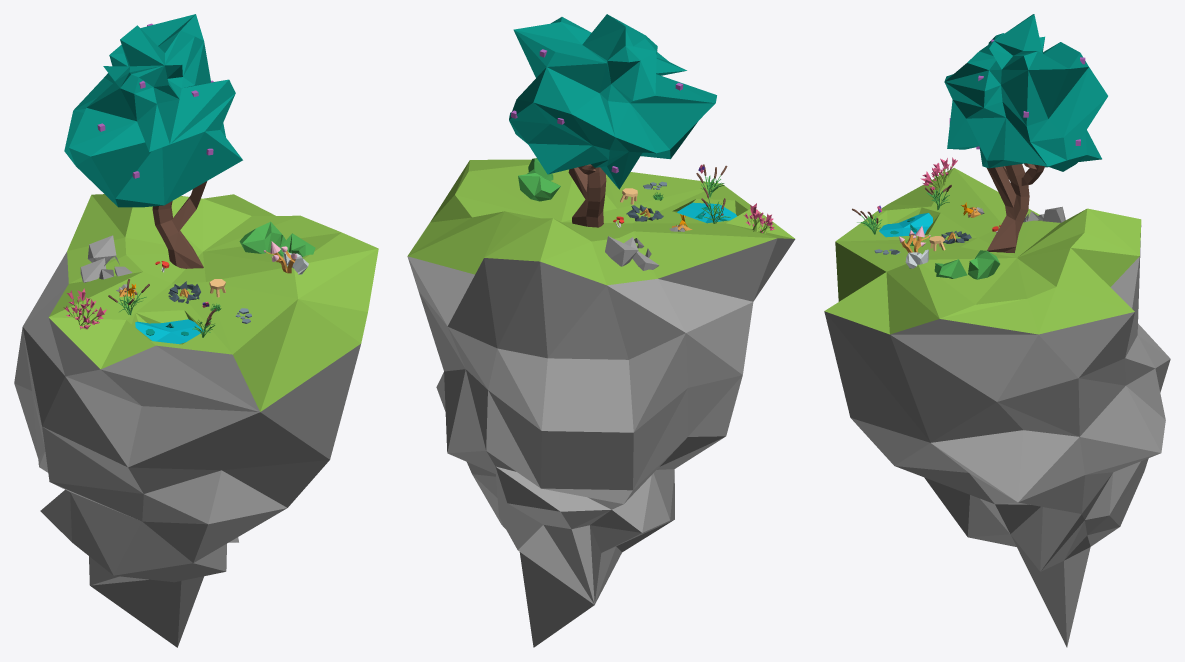
Rendered from island-fox.glb.
The picture shows the model from 3 angles, left to right: view 1: azimuth 30°, elevation 25°; view 2: azimuth 150°, elevation 25°; view 3: azimuth 270°, elevation 25°; orthographic projection. The views are drawn at different scales.
Visible parts, largest first — view 1: group89880989, group66116416, group1427171881, group950227613, group451614104, group1036978087; view 2: group89880989, group66116416, group1427171881, group451614104, group950227613, group1036978087; view 3: group89880989, group66116416, group1427171881, group950227613, group451614104, group2100907415.
Part boxes in pixels (box(x1,y1,x2,y2)): group89880989: box(14, 194, 378, 647); group66116416: box(64, 14, 242, 207); group1427171881: box(152, 181, 207, 268); group950227613: box(135, 319, 203, 343); group451614104: box(239, 221, 285, 253); group1036978087: box(87, 235, 116, 262); group89880989: box(407, 159, 795, 647); group66116416: box(509, 14, 716, 189); group1427171881: box(568, 167, 606, 227); group451614104: box(518, 169, 560, 201); group950227613: box(677, 202, 736, 223); group1036978087: box(605, 236, 637, 266); group89880989: box(824, 168, 1170, 647); group66116416: box(944, 14, 1107, 171); group1427171881: box(987, 164, 1029, 252); group950227613: box(879, 213, 932, 237); group451614104: box(968, 250, 999, 279); group2100907415: box(901, 234, 929, 268).
Bounding box in the file's own units: 3.55 × 6.83 × 3.53.
